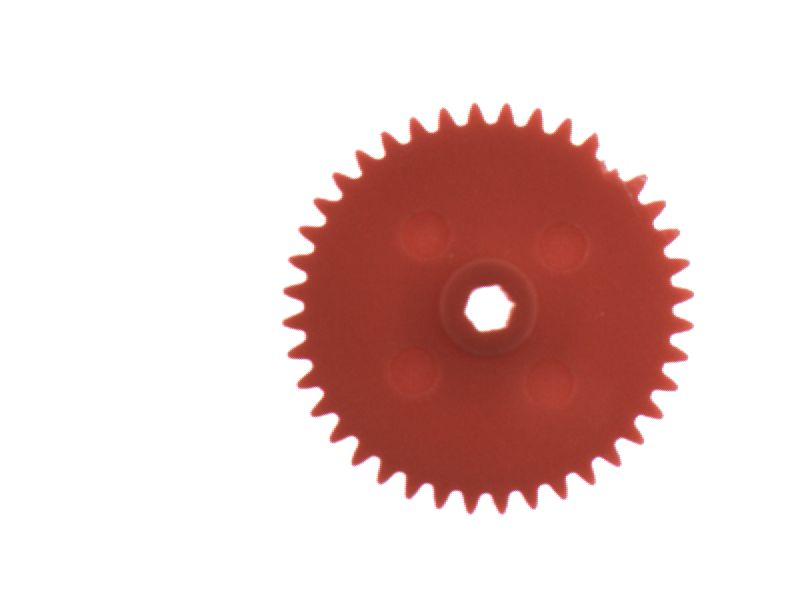defect_lack: (581, 129, 650, 184)
